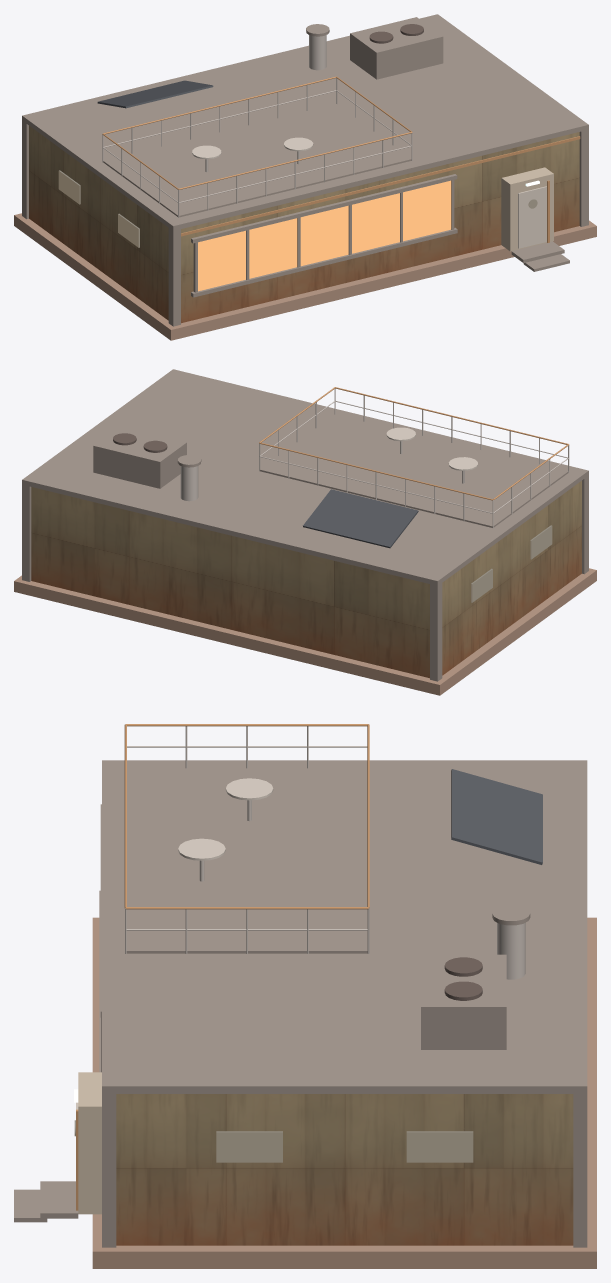
File: Z02_canteen.glb
3 renders of one model, top to bottom at view 1: azimuth 30°, elevation 25°; view 2: azimuth 150°, elevation 25°; view 3: azimuth 270°, elevation 25°, orthographic. The views are drawn at different scales.
Visible parts, largest first — view 1: roof_edge, hall, terrace_deck, panoramic_window, foundation, roof_air_unit, corner_post (×3), airlock_box, window_head, airlock_door, window_sill, accent_stripe (+5 smaller); view 2: hall, roof_edge, terrace_deck, foundation, roof_radiator, roof_air_unit, corner_post (×3), terrace_rail (×2), side_window (×2), kitchen_exhaust; view 3: roof_edge, hall, terrace_deck, foundation, roof_air_unit, roof_radiator, corner_post (×2), side_window (×2), airlock_box, step (×2), terrace_table (×2), terrace_rail (×2) (+2 smaller).
Boxes of the visible parts, <box> form: roof_edge: <box>22,14,588,230</box>; hall: <box>29,126,579,323</box>; terrace_deck: <box>103,104,411,217</box>; panoramic_window: <box>198,180,451,291</box>; foundation: <box>14,213,596,340</box>; roof_air_unit: <box>350,17,443,79</box>; corner_post (×3): <box>22,120,588,326</box>; airlock_box: <box>501,167,553,251</box>; window_head: <box>191,174,457,243</box>; airlock_door: <box>518,186,546,248</box>; window_sill: <box>191,227,457,297</box>; accent_stripe: <box>181,136,580,236</box>; hall: <box>31,481,581,678</box>; roof_edge: <box>22,369,588,585</box>; terrace_deck: <box>260,414,568,527</box>; foundation: <box>14,568,596,695</box>; roof_radiator: <box>303,489,418,548</box>; roof_air_unit: <box>93,426,186,488</box>; corner_post (×3): <box>22,475,588,681</box>; terrace_rail (×2): <box>259,387,567,500</box>; side_window (×2): <box>471,525,552,602</box>; kitchen_exhaust: <box>180,466,198,501</box>; roof_edge: <box>102,760,587,1093</box>; hall: <box>116,1094,573,1245</box>; terrace_deck: <box>126,768,367,953</box>; foundation: <box>92,917,596,1268</box>; roof_air_unit: <box>421,954,506,1049</box>; roof_radiator: <box>451,769,542,864</box>; corner_post (×2): <box>102,1094,587,1247</box>; side_window (×2): <box>216,1131,473,1162</box>; airlock_box: <box>78,1072,101,1214</box>; step (×2): <box>14,1181,78,1222</box>; terrace_table (×2): <box>178,778,273,860</box>; terrace_rail (×2): <box>126,724,368,909</box>.
Bounding box in the file's own units: 16.6 × 5.54 × 12.25.
Materials: 12 (1 with a texture image).
